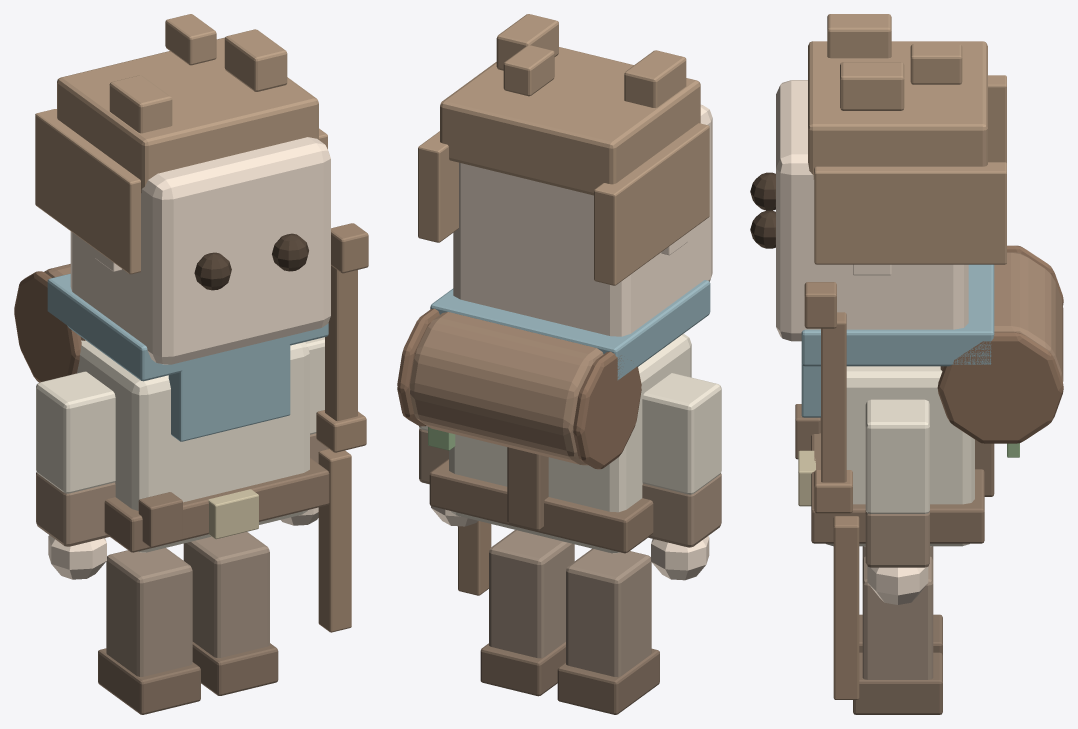
File: wanderer_v1.glb
The picture shows the model from 3 angles, left to right: view 1: azimuth 30°, elevation 25°; view 2: azimuth 150°, elevation 25°; view 3: azimuth 270°, elevation 25°; orthographic projection.
Parts seen in each view (by area): view 1: Head_Face, Hair_Top, Body_Tunic, Hair_Side_L, LegL_Pants, LegR_Pants, Scarf_Drape, ArmL_Sleeve, Scarf_Neck, Belt_Strap, Stick_Bottom, Pack_Log_End_L (+15 smaller); view 2: Head_Face, Hair_Top, Pack_Log, Hair_Side_L, LegL_Pants, Body_Tunic, LegR_Pants, ArmL_Sleeve, Belt_Strap, Scarf_Neck, Pack_Log_End_L, LegL_Boot (+11 smaller); view 3: Hair_Side_R, Head_Face, Hair_Top, Pack_Log_End_R, Body_Tunic, Scarf_Neck, ArmR_Sleeve, LegR_Pants, Pack_Log, Stick_Bottom, Stick_Top, Belt_Strap (+16 smaller).
Part boxes in pixels (bbox=[...]): Head_Face: bbox=[70, 137, 330, 364]; Hair_Top: bbox=[57, 37, 318, 192]; Body_Tunic: bbox=[77, 340, 309, 552]; Hair_Side_L: bbox=[35, 109, 140, 274]; LegL_Pants: bbox=[106, 548, 192, 676]; LegR_Pants: bbox=[183, 532, 269, 657]; Scarf_Drape: bbox=[168, 344, 290, 441]; ArmL_Sleeve: bbox=[36, 371, 115, 493]; Scarf_Neck: bbox=[47, 273, 328, 381]; Belt_Strap: bbox=[104, 458, 329, 552]; Stick_Bottom: bbox=[318, 449, 351, 632]; Pack_Log_End_L: bbox=[14, 271, 81, 382]; Head_Face: bbox=[453, 104, 712, 336]; Hair_Top: bbox=[440, 47, 700, 195]; Pack_Log: bbox=[410, 312, 603, 465]; Hair_Side_L: bbox=[594, 123, 709, 285]; LegL_Pants: bbox=[566, 548, 651, 677]; Body_Tunic: bbox=[449, 334, 691, 553]; LegR_Pants: bbox=[489, 530, 574, 658]; ArmL_Sleeve: bbox=[642, 373, 721, 494]; Belt_Strap: bbox=[429, 459, 653, 553]; Scarf_Neck: bbox=[430, 280, 710, 380]; Pack_Log_End_L: bbox=[573, 351, 641, 469]; LegL_Boot: bbox=[557, 648, 659, 714]; Hair_Side_R: bbox=[814, 162, 1006, 264]; Head_Face: bbox=[776, 80, 968, 341]; Hair_Top: bbox=[808, 41, 987, 179]; Pack_Log_End_R: bbox=[937, 332, 1063, 443]; Body_Tunic: bbox=[826, 366, 974, 546]; Scarf_Neck: bbox=[801, 264, 994, 366]; ArmR_Sleeve: bbox=[865, 399, 929, 513]; LegR_Pants: bbox=[862, 556, 933, 679]; Pack_Log: bbox=[940, 252, 1063, 381]; Stick_Bottom: bbox=[833, 516, 859, 699]; Stick_Top: bbox=[821, 312, 846, 482]; Belt_Strap: bbox=[811, 433, 984, 543].
Bounding box in the file's own units: 0.5 × 1.1 × 0.4882.
